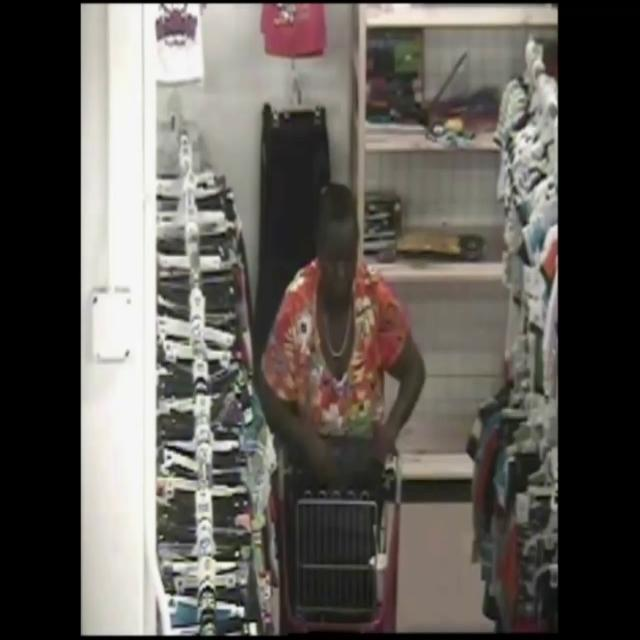normal: (246, 166, 436, 570)
